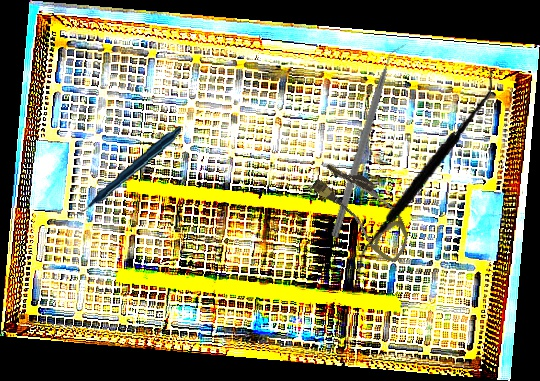Cannula: (302, 155, 426, 265)
Chopper: (330, 39, 409, 242)
Handpiece: (66, 126, 187, 215)
Spatula Surgical: (356, 61, 493, 282)
